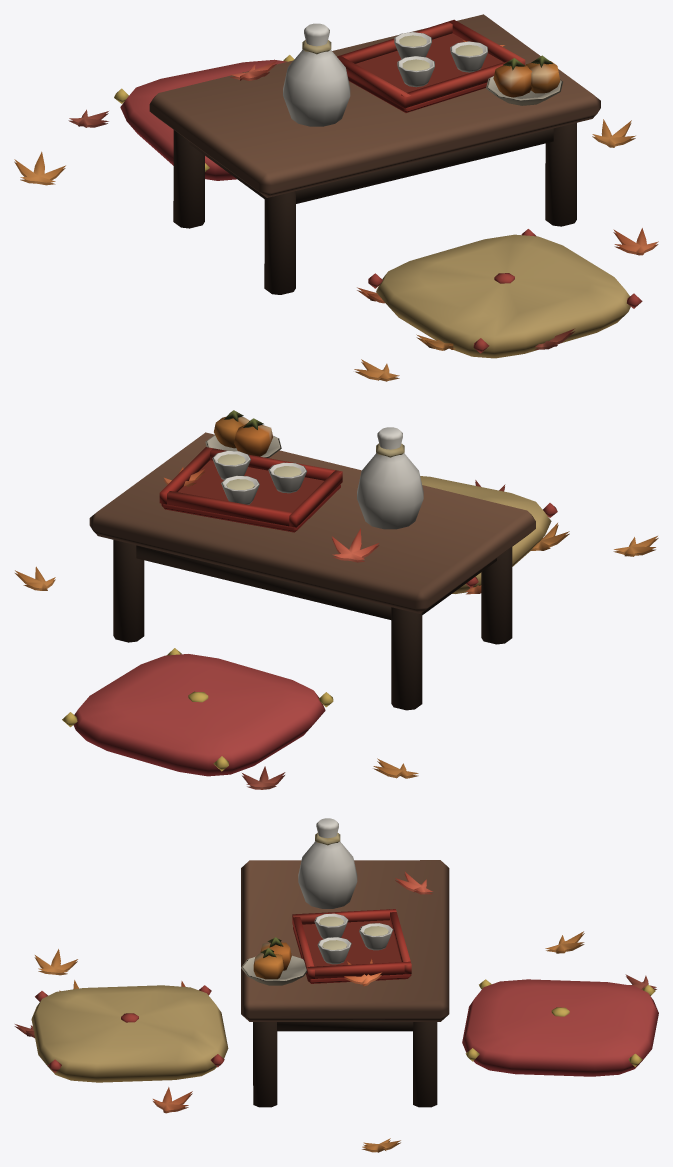
File: dg-maple-sakeTable.glb
3 renders of one model, top to bottom at view 1: azimuth 30°, elevation 25°; view 2: azimuth 150°, elevation 25°; view 3: azimuth 270°, elevation 25°, orthographic. The views are drawn at different scales.
Parts seen in each view (by area): view 1: body, cloth, leaf; view 2: body, cloth, leaf; view 3: body, cloth, leaf.
Part boxes in pixels (x1,y1,x2,y2): body: [149, 14, 600, 294]; cloth: [114, 55, 642, 358]; leaf: [14, 40, 658, 381]; body: [89, 410, 535, 710]; cloth: [62, 476, 557, 776]; leaf: [15, 467, 658, 789]; body: [241, 818, 449, 1107]; cloth: [31, 979, 658, 1082]; leaf: [14, 872, 656, 1152].
Bounding box in the file's own units: 1.49 × 0.6057 × 1.86.
